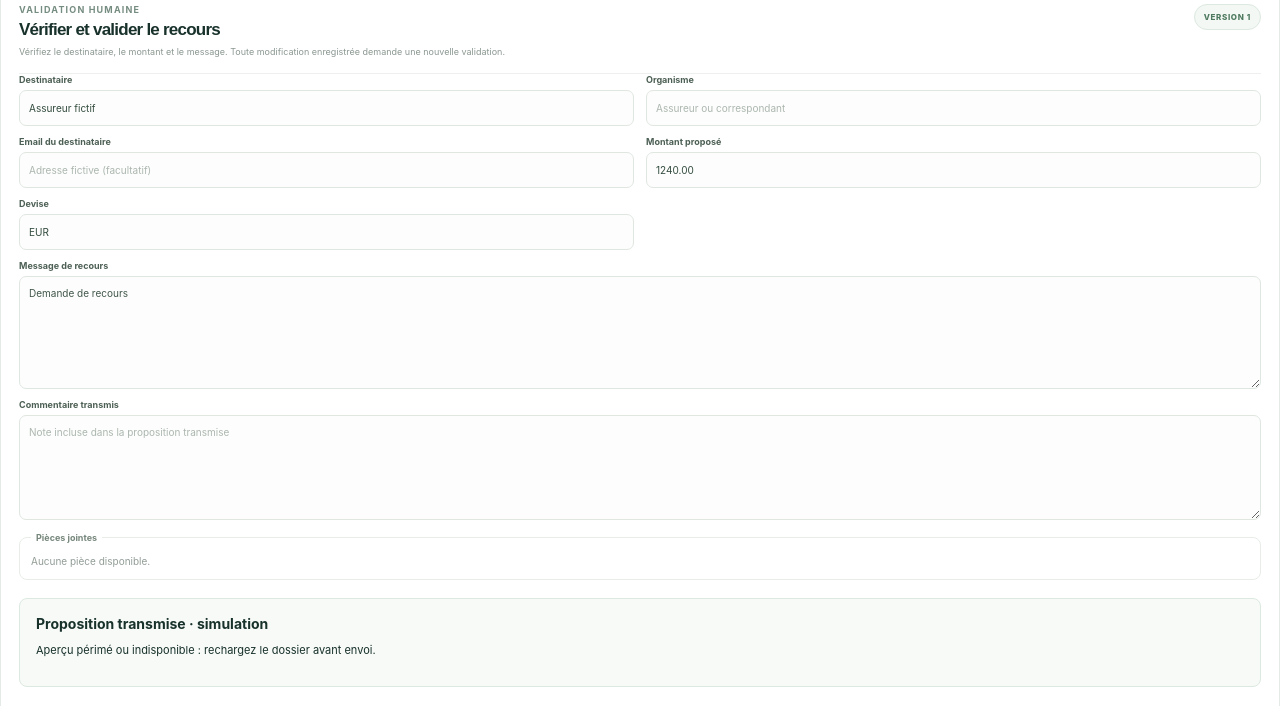
Test case: offers registration after approval, then saving alone when the manager edits
The width and height of the screenshot is (1280, 706).
Replace the text in the text box labelled "Message de recours" with "Message amendé" at (640, 332), box [19,276,1261,388]
(page scrolled)
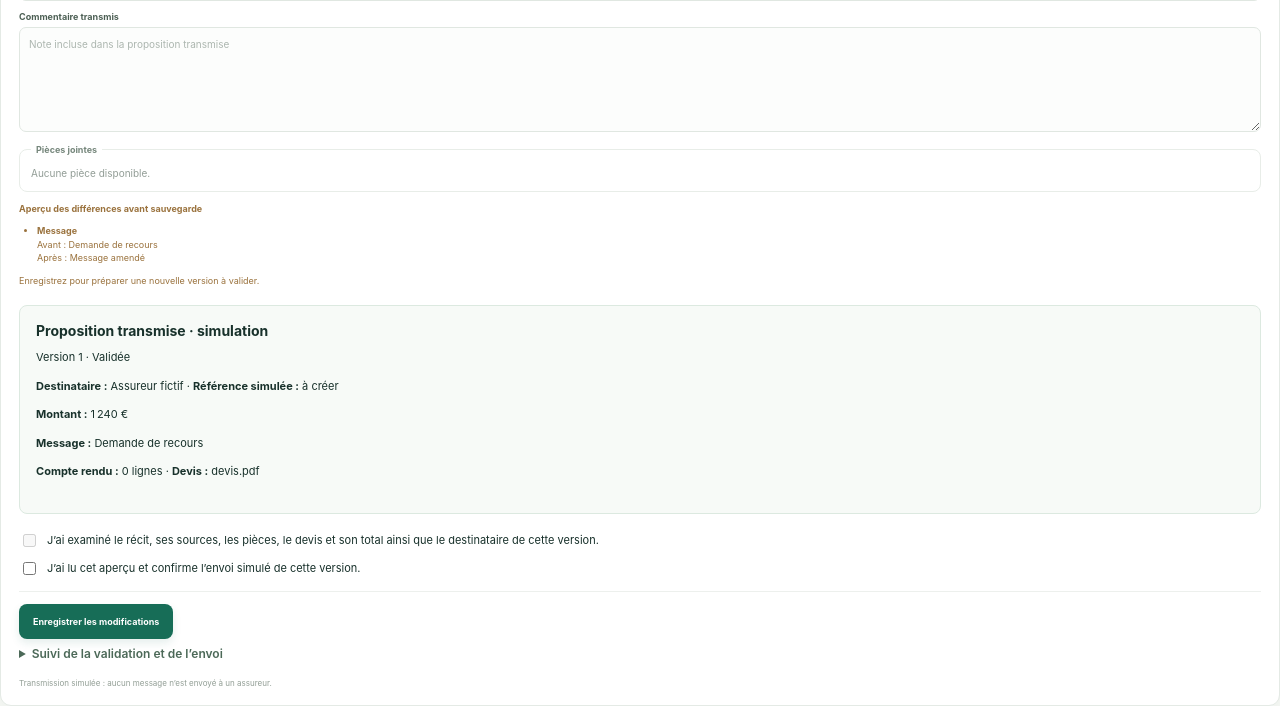
Expected: the button "Enregistrer les modifications" is shown, [19,604,173,639]
